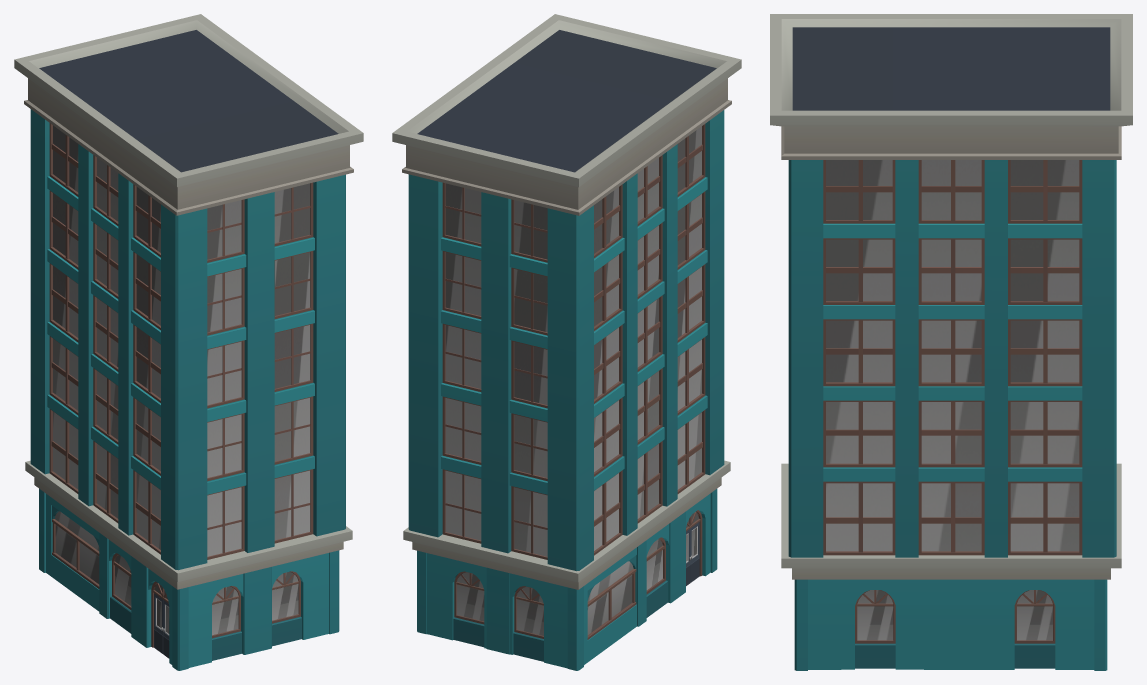
File: Building_27_C.fbx
The picture shows the model from 3 angles, left to right: view 1: azimuth 30°, elevation 25°; view 2: azimuth 150°, elevation 25°; view 3: azimuth 270°, elevation 25°; orthographic projection. The views are drawn at different scales.
Parts seen in each view (by area): view 1: Building_27_C; view 2: Building_27_C; view 3: Building_27_C.
Part boxes in pixels (x1,y1,x2,y2): Building_27_C: (14,14,363,670); Building_27_C: (392,14,741,670); Building_27_C: (770,14,1132,670).
Size of the model in its own units: 765 by 1974 by 1155.
